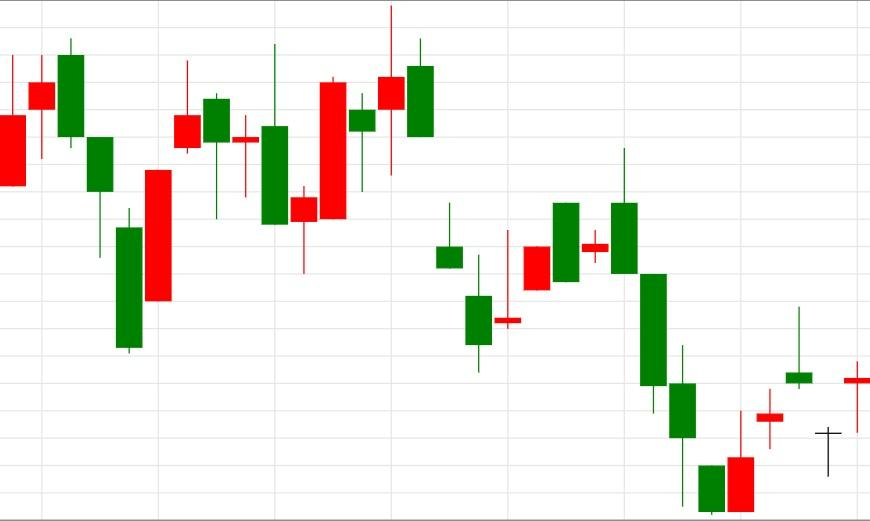bullish_engulfing_rise: (609, 147, 754, 515)
three_black_crows_fall: (464, 147, 697, 506)
